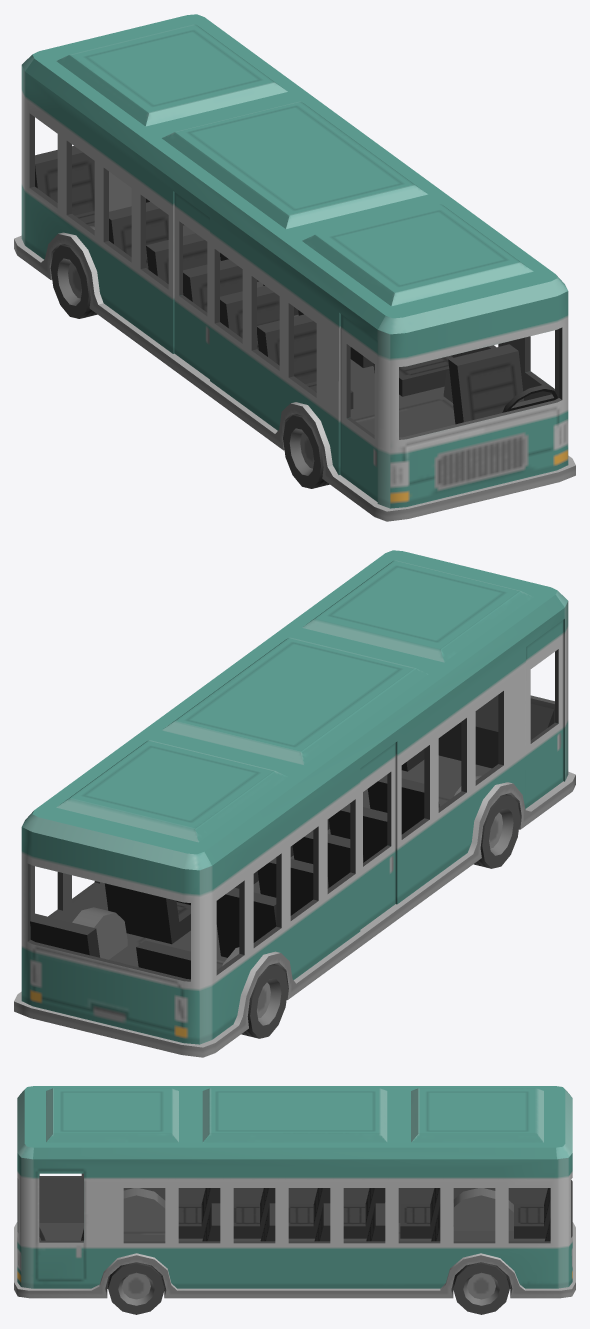
File: Bus_001.FBX
3 views of the same model, one above another, from view 1: azimuth 30°, elevation 25°; view 2: azimuth 150°, elevation 25°; view 3: azimuth 270°, elevation 25° (orthographic). The views are drawn at different scales.
Visible parts, largest first — view 1: Bus_001, Bus_001_Right_Wheel, Bus_001_Rear_Wheel; view 2: Bus_001, Bus_001_Rear_Wheel, Bus_001_Right_Wheel; view 3: Bus_001, Bus_001_Rear_Wheel, Bus_001_Left_Wheel.
Part boxes in pixels (<box>): Bus_001: <box>14,14,575,521</box>; Bus_001_Right_Wheel: <box>283,414,329,488</box>; Bus_001_Rear_Wheel: <box>50,244,97,318</box>; Bus_001: <box>14,550,575,1057</box>; Bus_001_Rear_Wheel: <box>241,964,287,1038</box>; Bus_001_Right_Wheel: <box>473,794,520,868</box>; Bus_001: <box>14,1086,575,1298</box>; Bus_001_Rear_Wheel: <box>453,1262,509,1314</box>; Bus_001_Left_Wheel: <box>108,1262,164,1314</box>.
Size of the model in its own units: 235 by 774 by 255.
